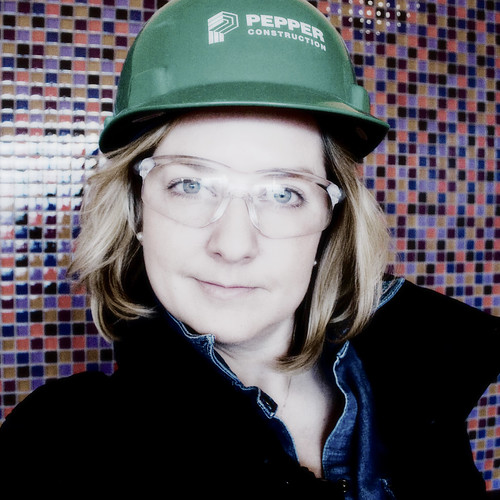person hardhat: (36, 2, 491, 496)
